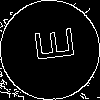E: (25, 25, 75, 65)
